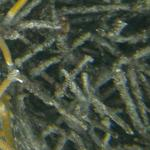dead: (2, 1, 146, 148)
